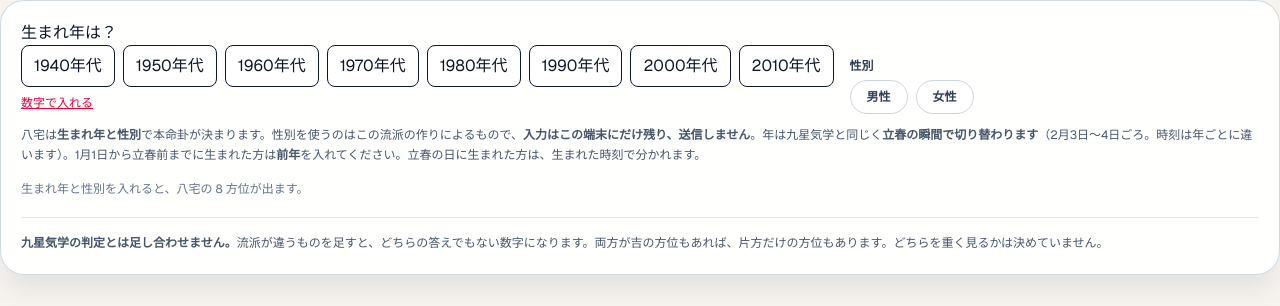
Test: 未登録では年代と年をボタンで聞き、設定を書かない: 1
The width and height of the screenshot is (1280, 306).
Click the button "1980年代".
click(474, 66)  # box [427, 45, 520, 87]
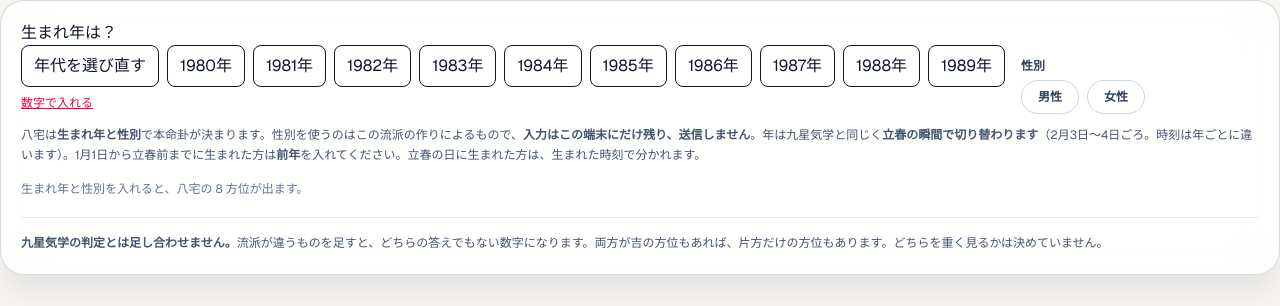
Click the button "1988年".
click(882, 66)  # box [843, 45, 920, 87]
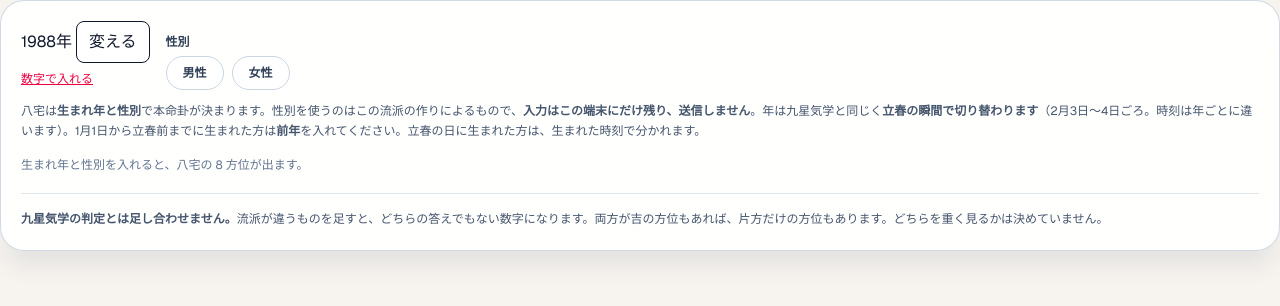
Now the text "1988年" is shown, box [21, 21, 150, 63]
